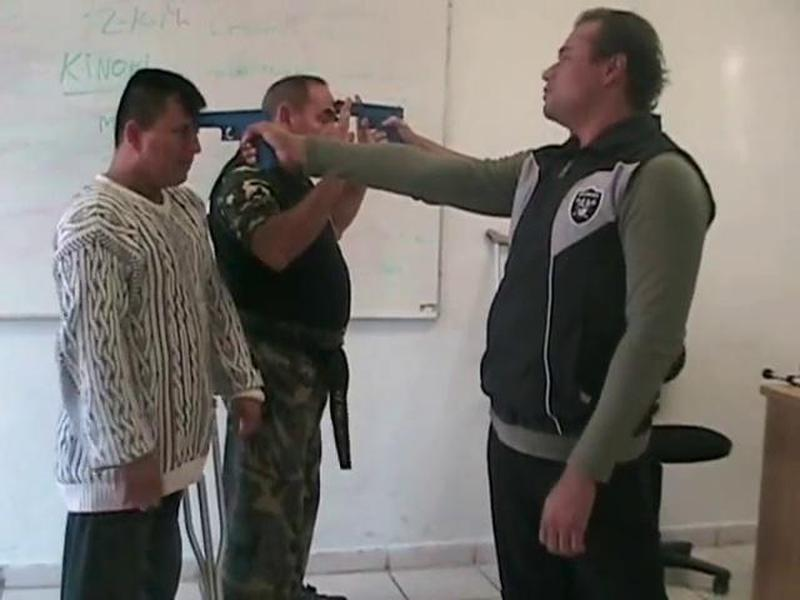Pistola: (186, 95, 290, 184), (322, 89, 421, 162)
